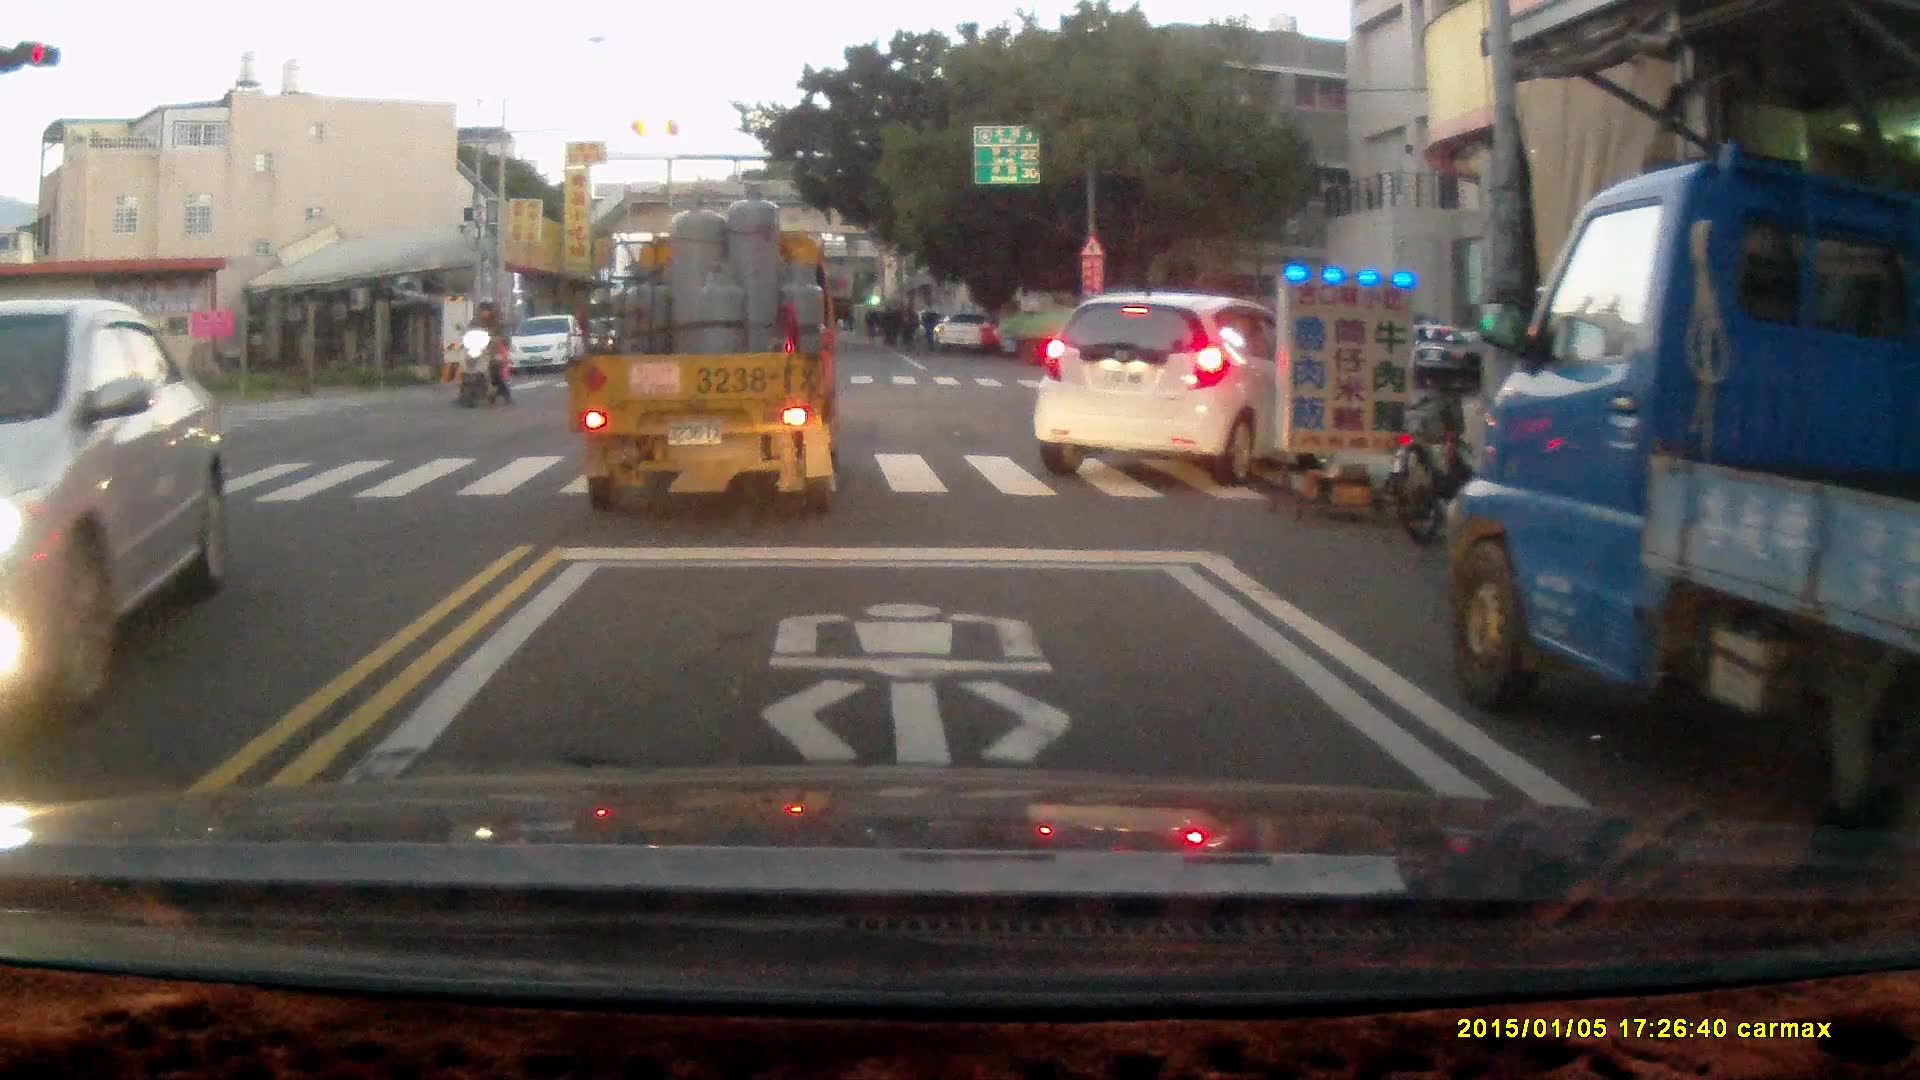rider: (453, 299, 509, 408)
vehicle: (1435, 160, 1920, 815), (1, 295, 224, 751), (566, 187, 846, 517), (1029, 288, 1309, 469), (507, 312, 588, 379)
